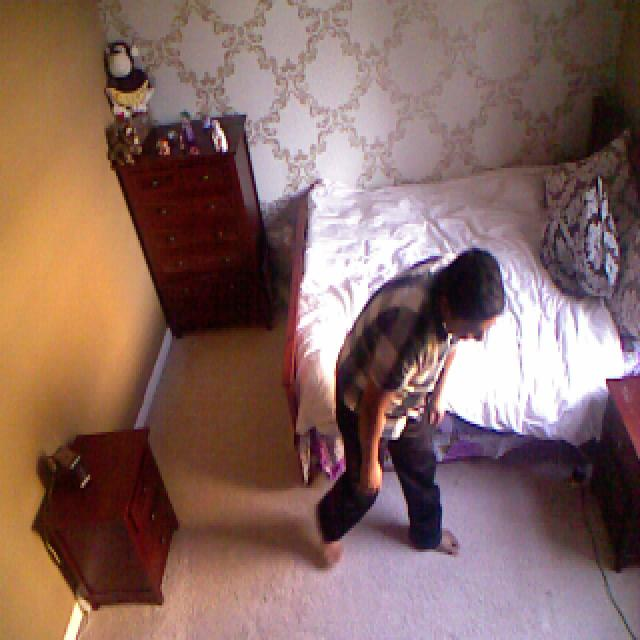standing: (308, 243, 505, 568)
